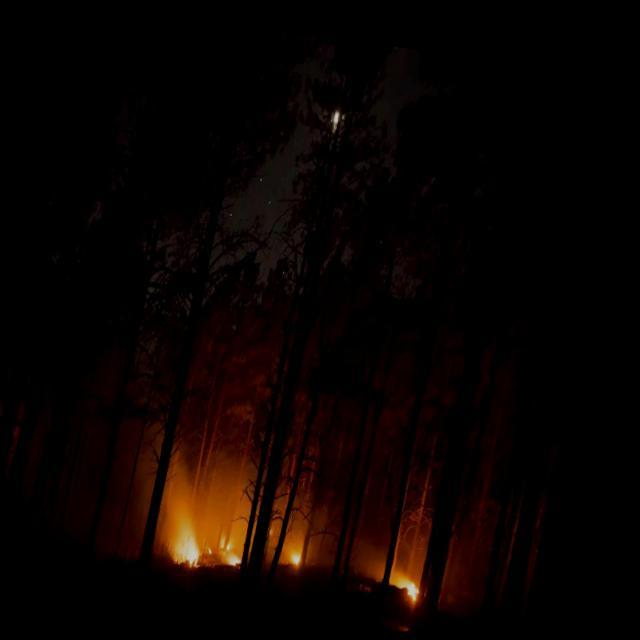Fire: (194, 524, 227, 560), (239, 528, 269, 560), (416, 558, 444, 586), (308, 536, 325, 558), (0, 446, 4, 466)
